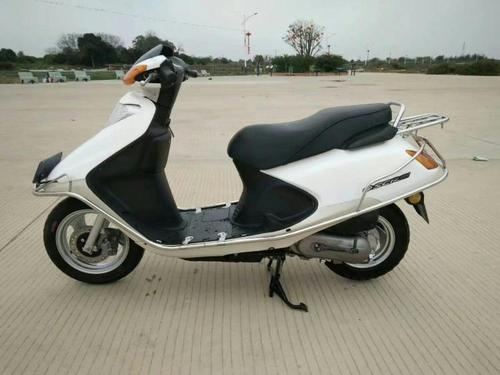motor: (47, 50, 430, 302)
